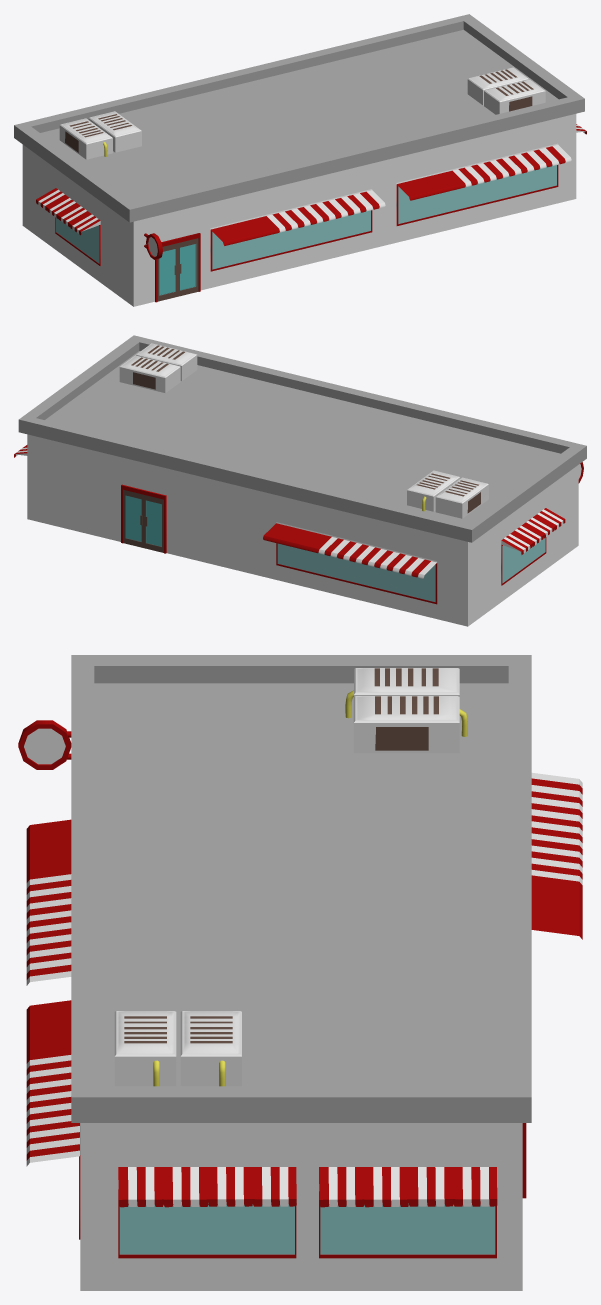
The model's file is Building_1Story_Mod_2.fbx.
3 renders of one model, top to bottom at view 1: azimuth 30°, elevation 25°; view 2: azimuth 150°, elevation 25°; view 3: azimuth 270°, elevation 25°, orthographic. The views are drawn at different scales.
Parts seen in each view (by area): view 1: Roof10, Building389, Windows6, Aircon10, Aircon11, Aircon9, Door37, Door36, Aircon12; view 2: Roof10, Building389, Windows6, Aircon12, Aircon10, Aircon9, DoorLeft8, DoorRight10, Aircon11; view 3: Roof10, Building389, Windows6, Aircon9, Aircon11, Aircon12, Aircon10, Sign5.
Part boxes in pixels (x1=…): Roof10: x1=14, y1=14, x2=584, y2=222; Building389: x1=22, y1=114, x2=576, y2=306; Windows6: x1=36, y1=124, x2=586, y2=271; Aircon10: x1=59, y1=118, x2=112, y2=159; Aircon11: x1=484, y1=79, x2=545, y2=114; Aircon9: x1=88, y1=111, x2=141, y2=152; Door37: x1=178, y1=238, x2=198, y2=296; Door36: x1=157, y1=243, x2=177, y2=301; Aircon12: x1=467, y1=67, x2=528, y2=105; Roof10: x1=18, y1=335, x2=586, y2=542; Building389: x1=27, y1=434, x2=578, y2=626; Windows6: x1=14, y1=445, x2=565, y2=604; Aircon12: x1=119, y1=355, x2=180, y2=393; Aircon10: x1=435, y1=477, x2=488, y2=518; Aircon9: x1=407, y1=470, x2=459, y2=511; DoorLeft8: x1=123, y1=490, x2=143, y2=547; DoorRight10: x1=143, y1=495, x2=163, y2=552; Aircon11: x1=136, y1=343, x2=197, y2=380; Roof10: x1=71, y1=655, x2=531, y2=1122; Building389: x1=80, y1=1123, x2=526, y2=1290; Windows6: x1=26, y1=772, x2=582, y2=1258; Aircon9: x1=353, y1=696, x2=467, y2=753; Aircon11: x1=114, y1=1011, x2=176, y2=1086; Aircon12: x1=180, y1=1011, x2=241, y2=1086; Aircon10: x1=345, y1=668, x2=459, y2=718; Sign5: x1=18, y1=720, x2=71, y2=769.
Bounding box in the file's own units: 20.02 × 4.32 × 10.17.
